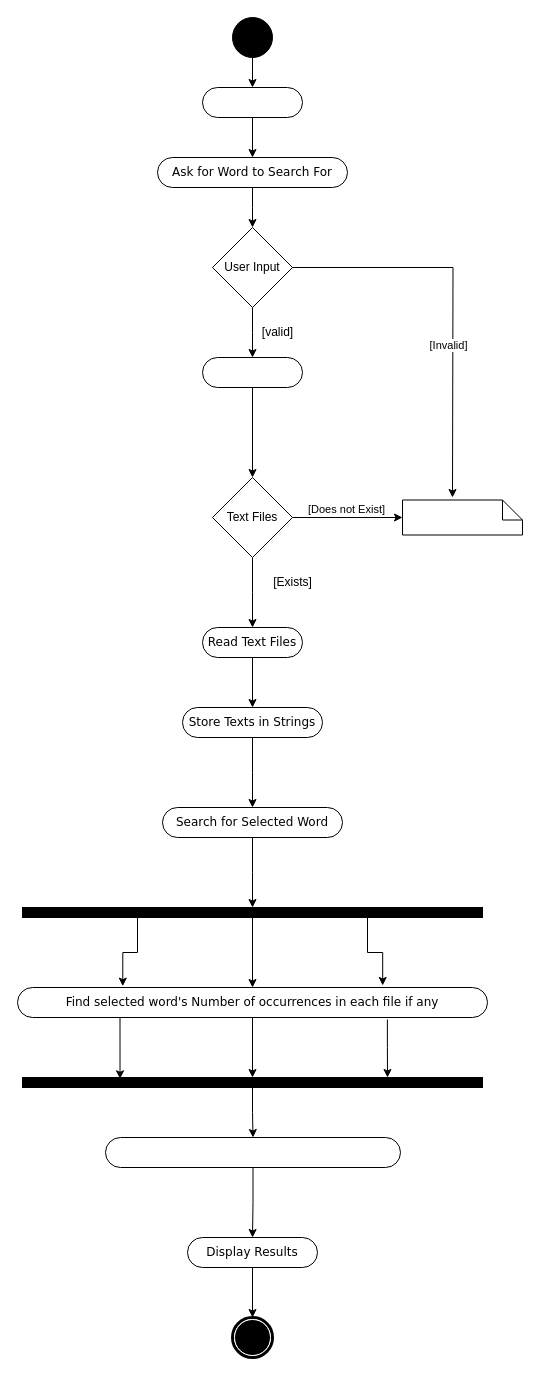
This 540x1375 diagram has some shape labels left out. The centre of each missing label's shape, as x and y in pixels:
"Raise Error" goes at pixel 462 517.
"Start Project" goes at pixel 252 102.
"Store Results from All Threads Independently" goes at pixel 252 1152.
"View Text File" goes at pixel 252 372.
